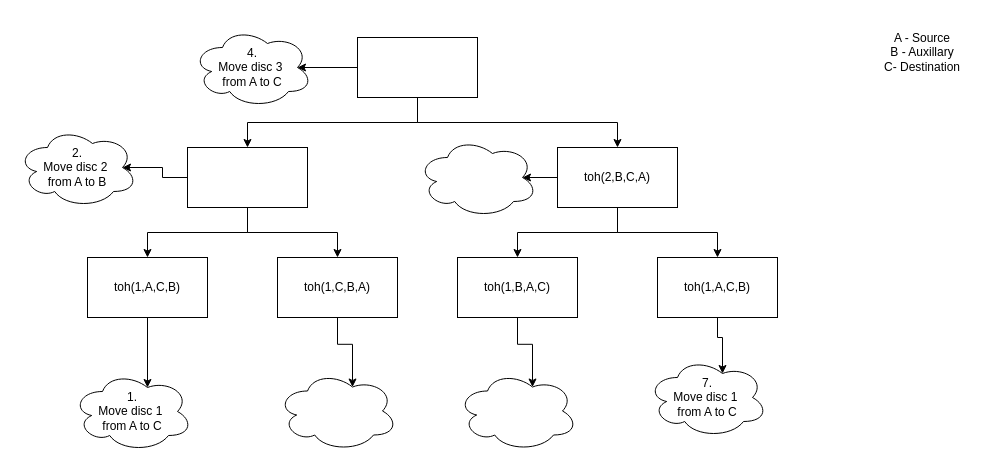
Some shapes in this 985 by 469 pixel diagram are drawn without their labels. The centre of each missing label's shape, as x and y in pixels:
3. Move disc 1 from C to B: point 337,410
5. Move disc 1 from B to A: point 517,410
6. Move disc 2 from B to C: point 477,177
toh(2,A,B,C): point 247,177
toh(3,A,C,B): point 417,67
